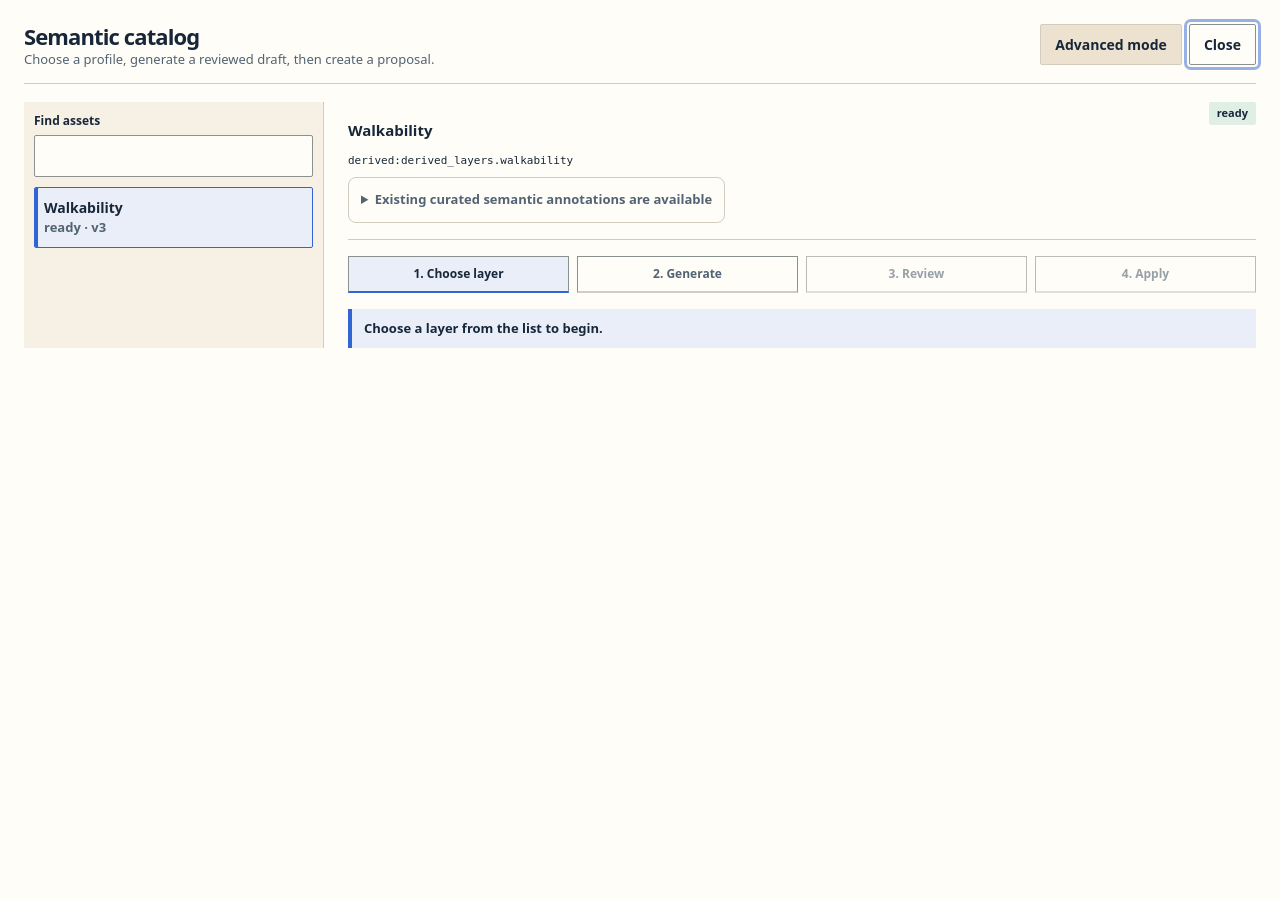
Test: SemanticCatalog › rejects mismatched context evidence without loading a partial field draft
Step 1. Click the button "2. Generate" → x=688, y=274, box [577, 256, 798, 293]
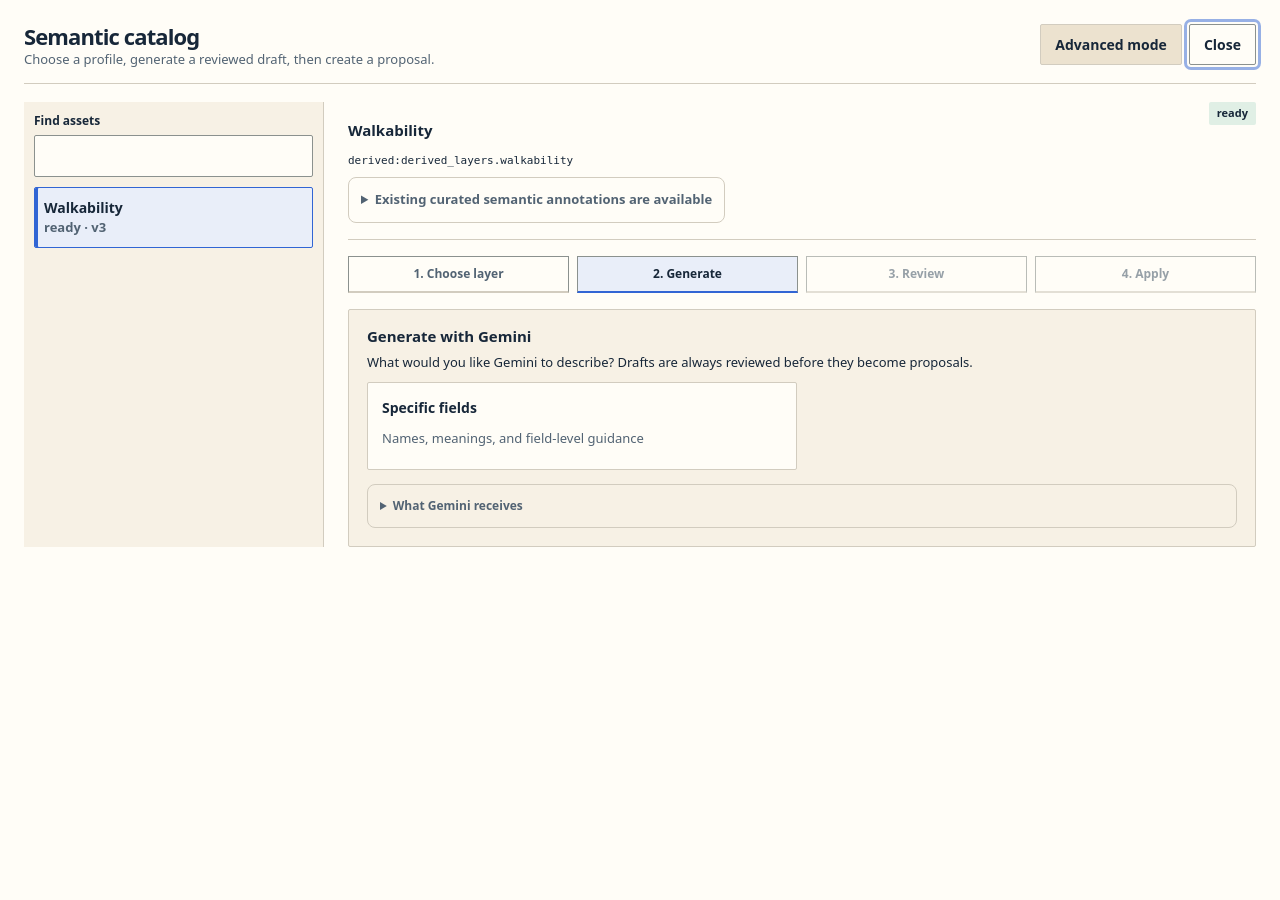
Step 2. Click the button "Specific fields Names, meanings, and field-level guidance" → x=582, y=426, box [367, 382, 797, 470]
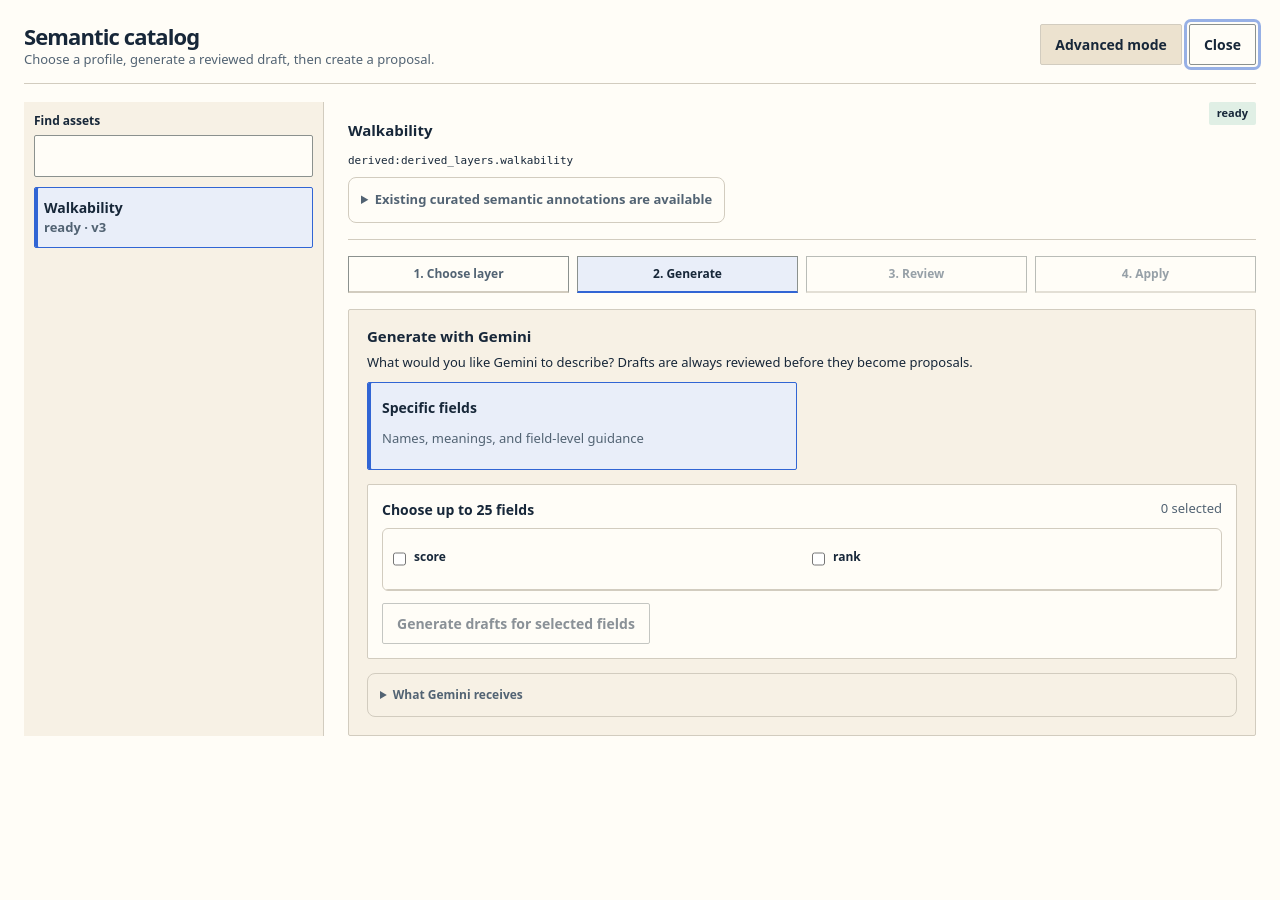
Step 3. Click the checkbox labelled "score" → x=400, y=559, box [393, 538, 406, 580]
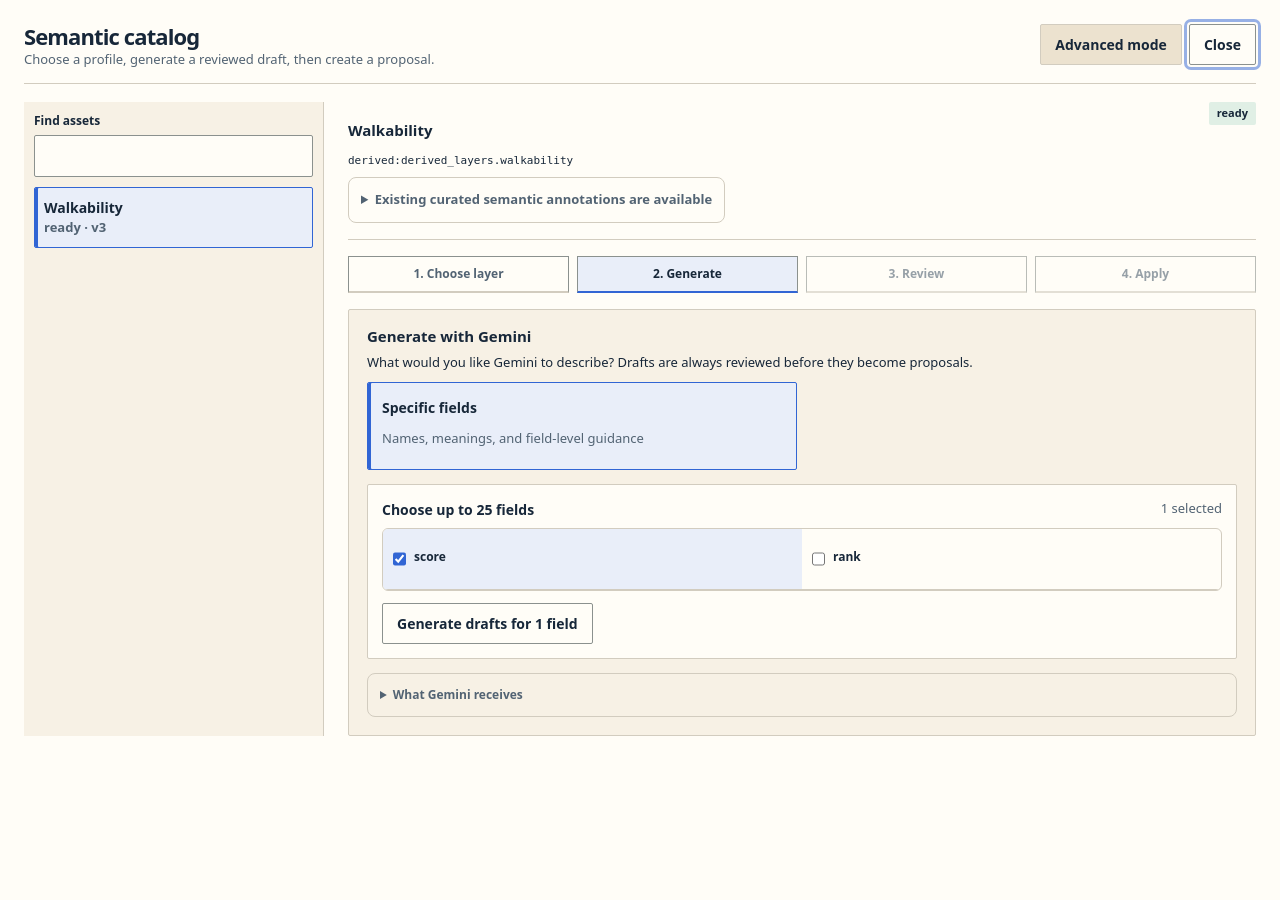
Step 4. Click the checkbox labelled "rank" → x=818, y=559, box [812, 538, 825, 580]
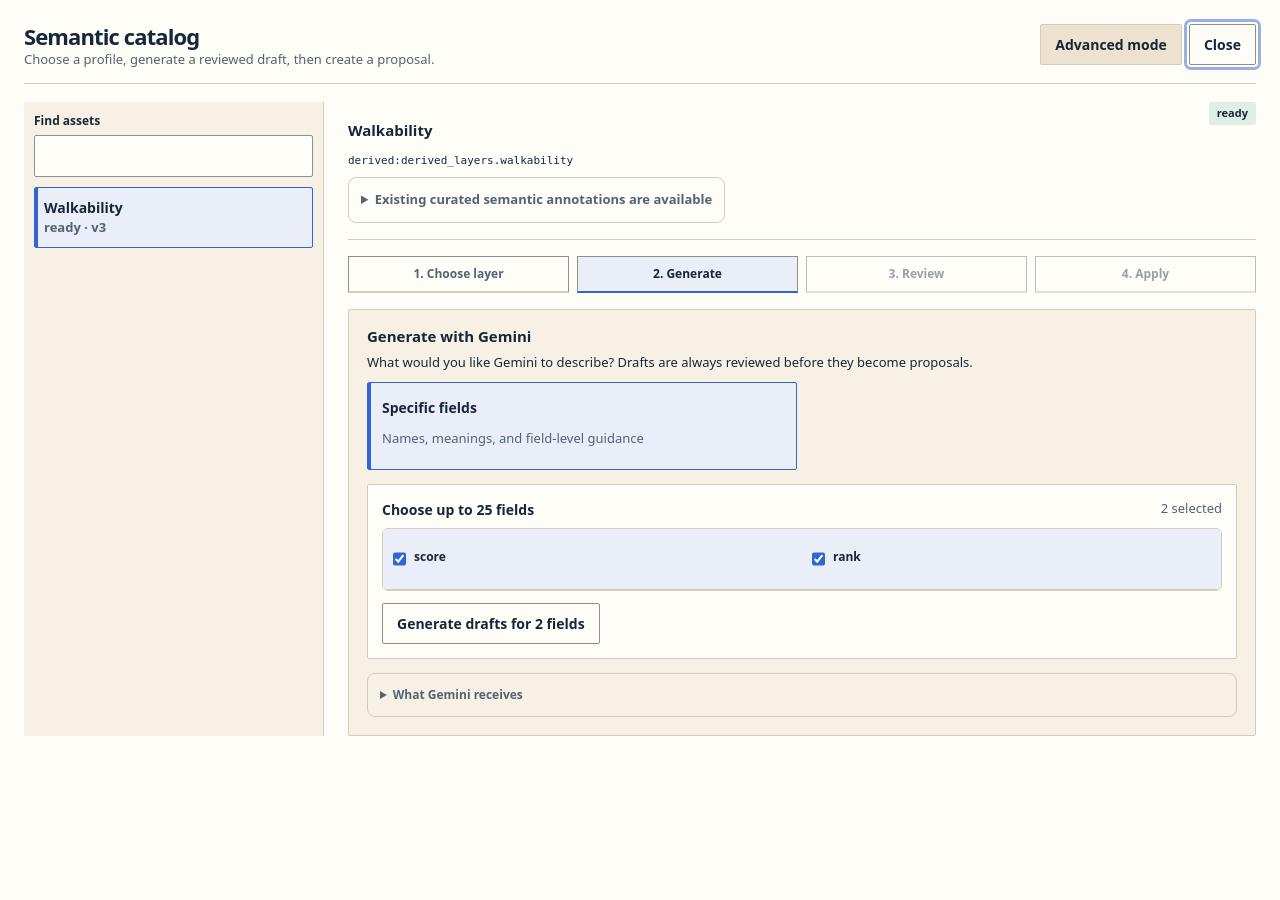
Step 5. Click the button "Generate drafts for 2 fields" → x=491, y=624, box [382, 603, 600, 644]
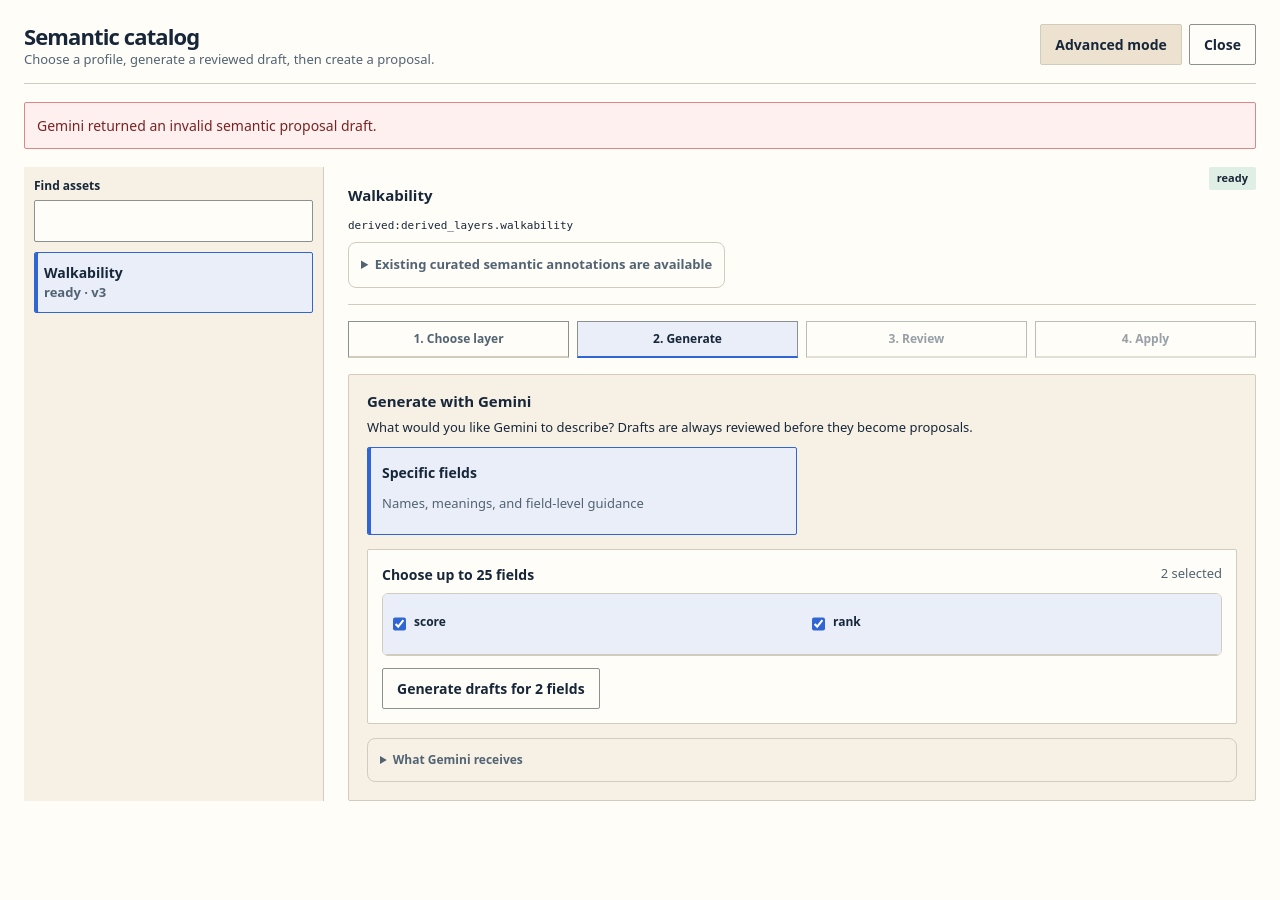
Check: the button named "1/2 completed" is shown, box [382, 668, 600, 709]
Check: the text "Gemini returned an invalid semantic proposal draft." is shown, box [24, 102, 1256, 149]
